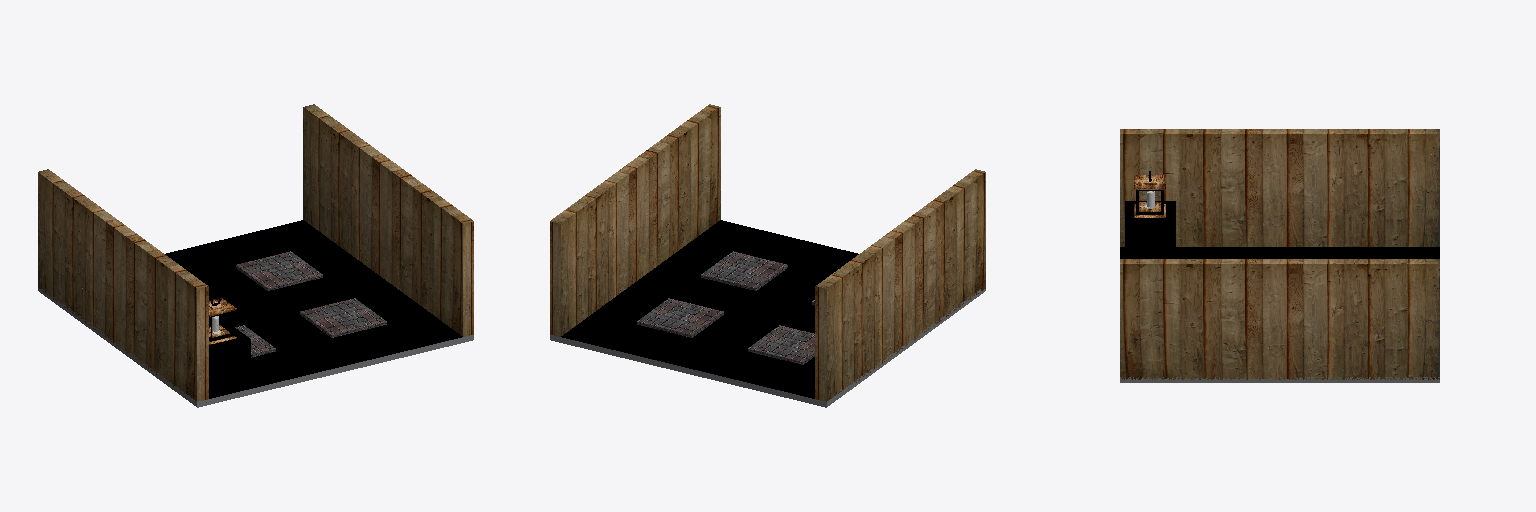
The picture shows the model from 3 angles: view 1: azimuth 30°, elevation 25°; view 2: azimuth 150°, elevation 25°; view 3: azimuth 270°, elevation 25°; orthographic projection.
Visible parts, largest first — view 1: Gerade_Holz_Licht; view 2: Gerade_Holz_Licht; view 3: Gerade_Holz_Licht.
Boxes of the visible parts, <box> form: Gerade_Holz_Licht: <box>38,104,473,407</box>; Gerade_Holz_Licht: <box>550,104,985,407</box>; Gerade_Holz_Licht: <box>1120,129,1439,382</box>.
Bounding box in the file's own units: 5 × 2.05 × 5.
Materials: 29 (3 with a texture image).